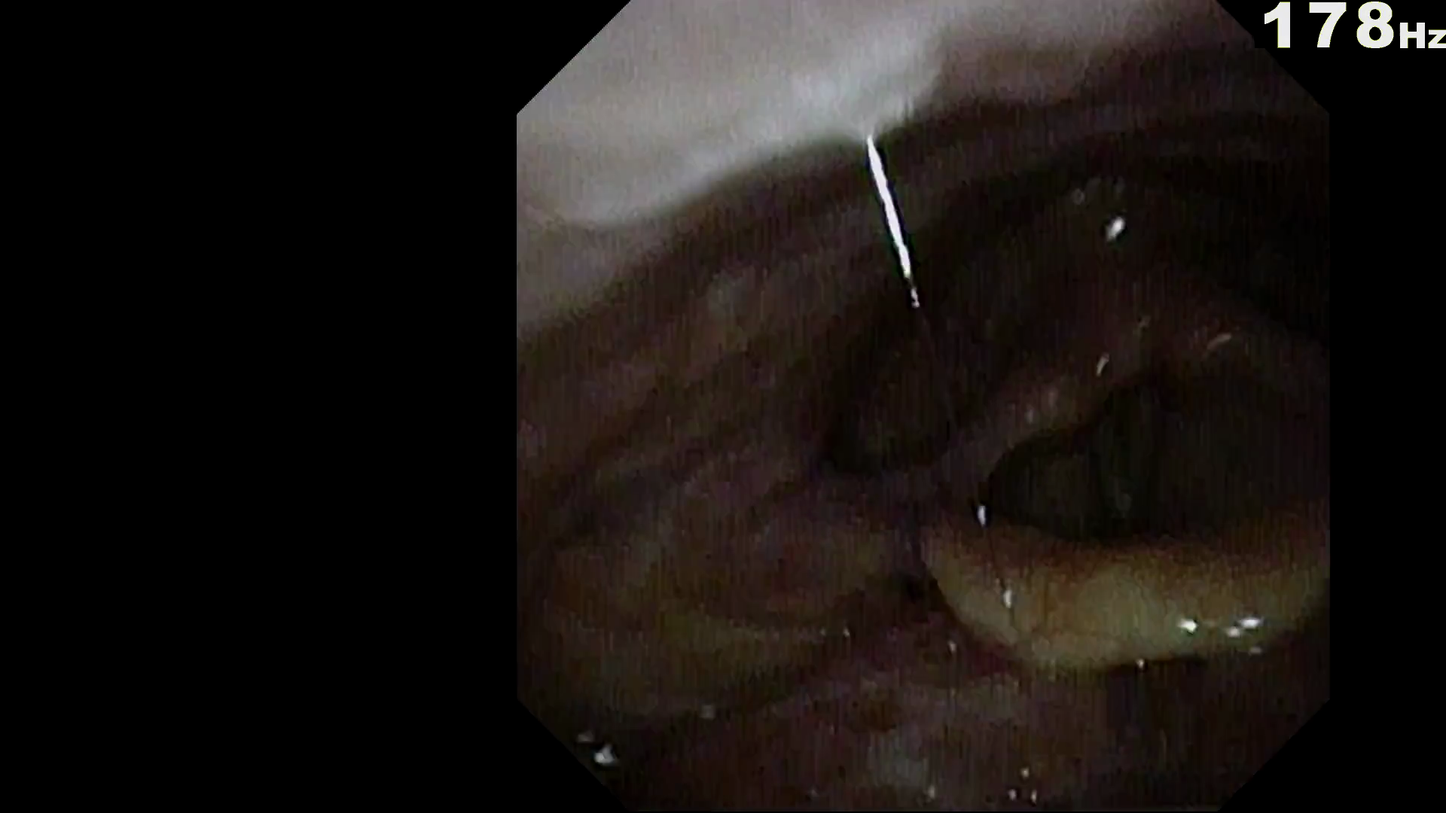epiglottis: (892, 510, 1304, 694)
trachea: (1058, 401, 1184, 543)
